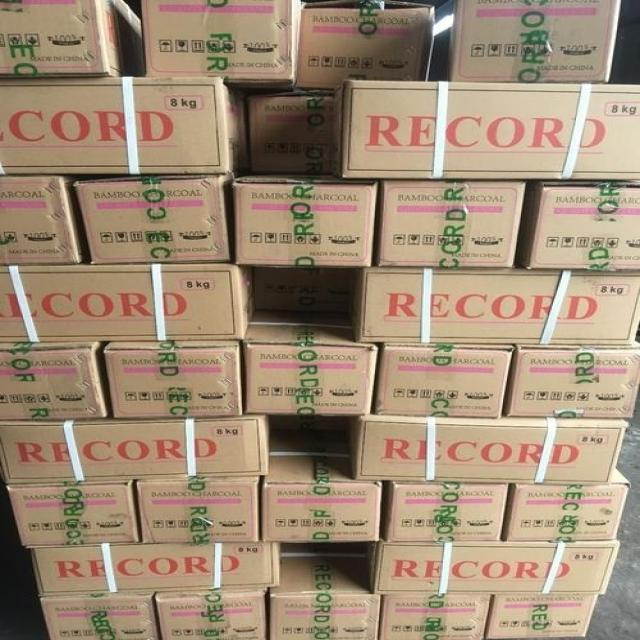box: (332, 80, 640, 181), (0, 76, 248, 175), (352, 267, 640, 347), (0, 262, 257, 342), (351, 415, 627, 486), (0, 414, 271, 485), (429, 0, 622, 83), (138, 0, 301, 93), (72, 173, 237, 264), (367, 540, 620, 597), (260, 427, 383, 544), (28, 541, 283, 597), (229, 173, 379, 268), (370, 179, 526, 269), (243, 312, 378, 416), (297, 0, 436, 89), (516, 181, 640, 270), (268, 542, 380, 640), (104, 341, 244, 419), (502, 341, 640, 419), (372, 343, 513, 418), (499, 467, 631, 542), (6, 480, 142, 550), (0, 341, 113, 421), (239, 89, 342, 175), (134, 476, 262, 544), (0, 176, 91, 266), (381, 481, 507, 542), (152, 590, 269, 640), (40, 593, 163, 640), (378, 594, 493, 640), (486, 593, 599, 639), (253, 267, 358, 314)
